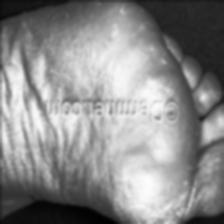Toxin: (118, 167, 182, 223)
